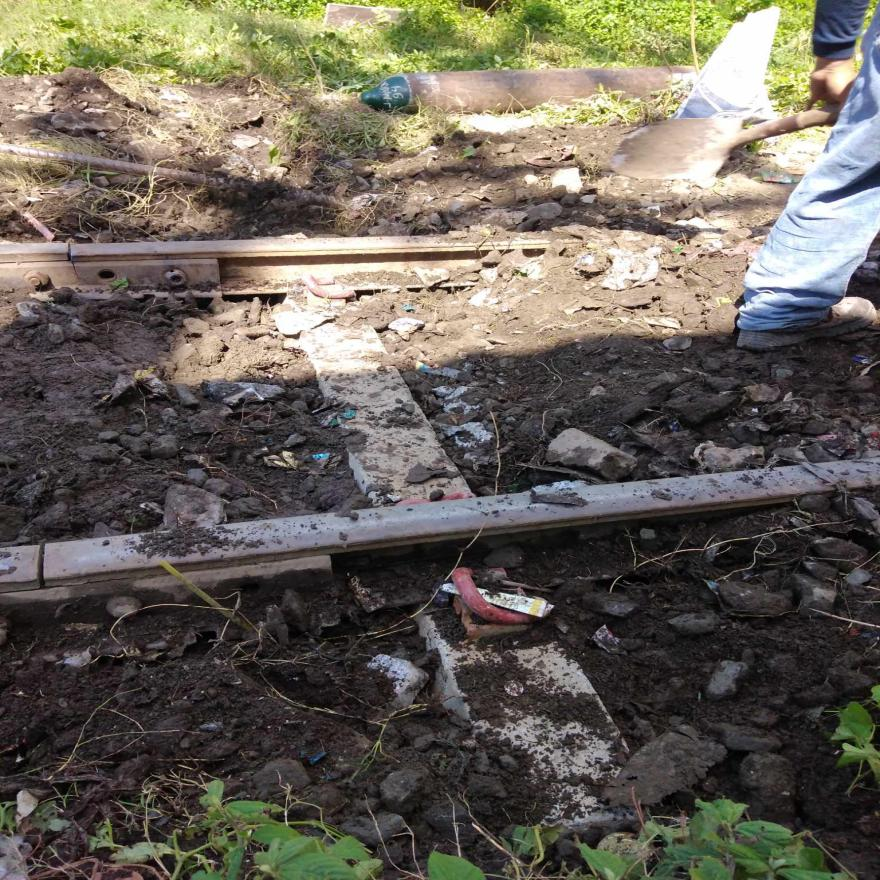railway-gap: (3, 519, 83, 607), (38, 224, 103, 282)
